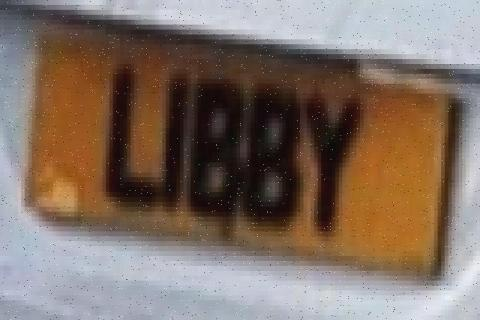LicensePlate: (23, 2, 470, 301)
